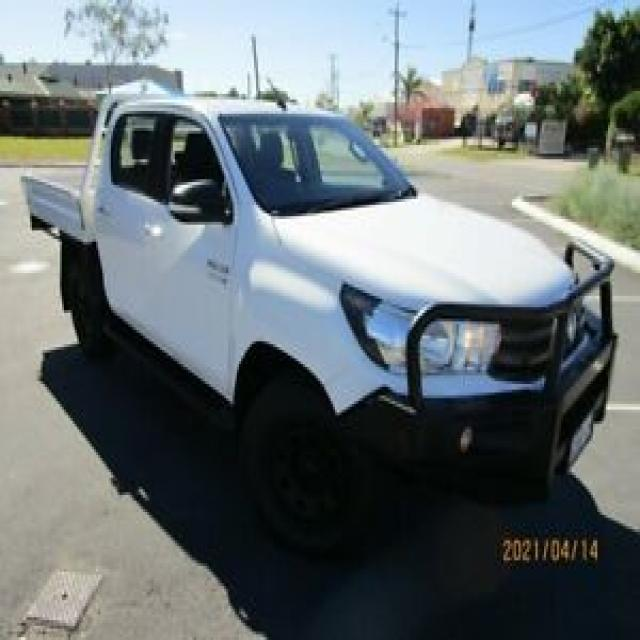light_vehicle: (21, 60, 619, 552)
